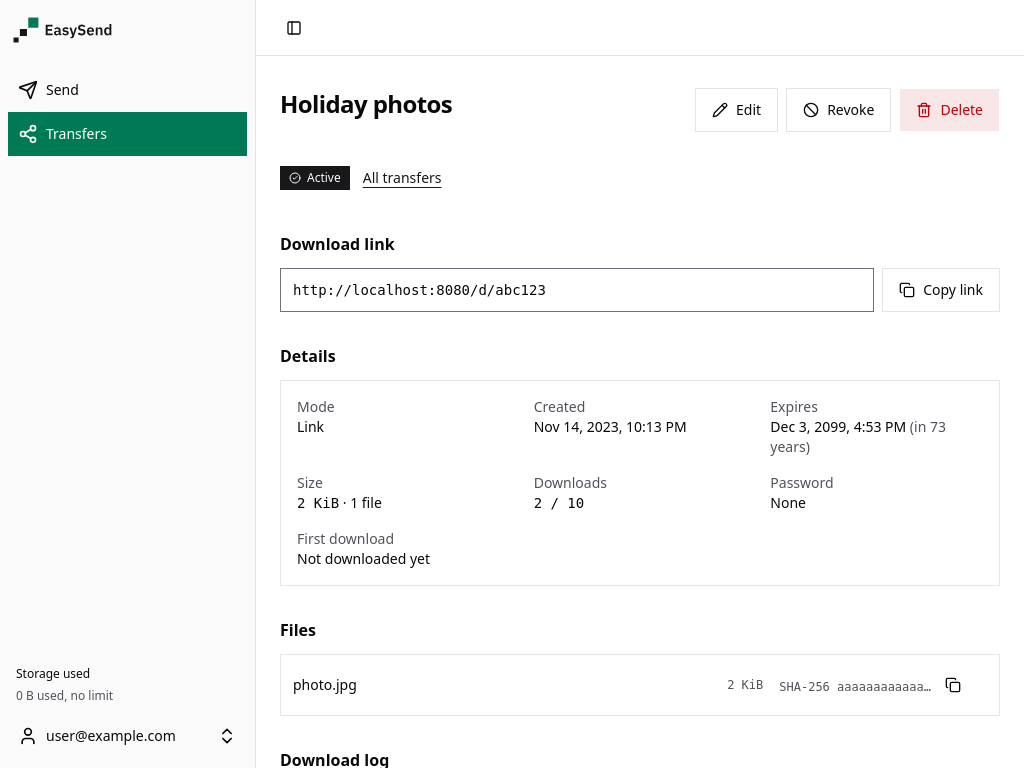
Scenario: EditTransferDialog › explains when nothing changed
The width and height of the screenshot is (1024, 768).
Click the button "Edit" at (737, 110), box left=695, top=88, right=778, bottom=132
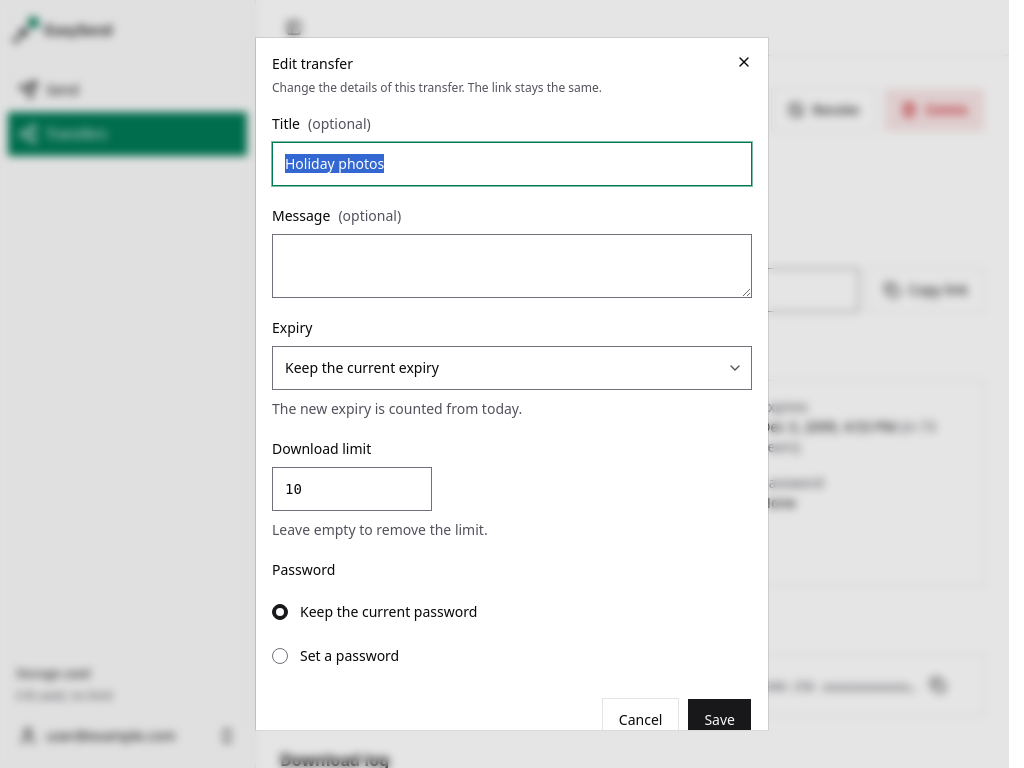
Click the button "Save" at (720, 720), box left=687, top=698, right=752, bottom=742
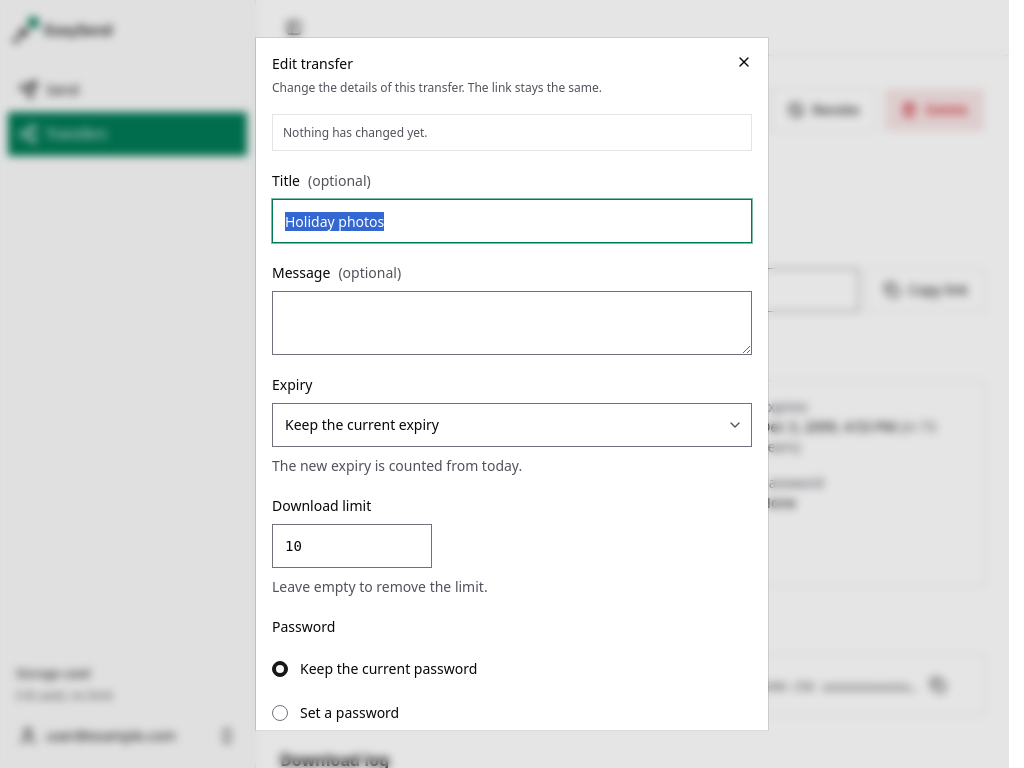
Expected: the text "Nothing has changed yet." is shown, left=283, top=124, right=428, bottom=141
